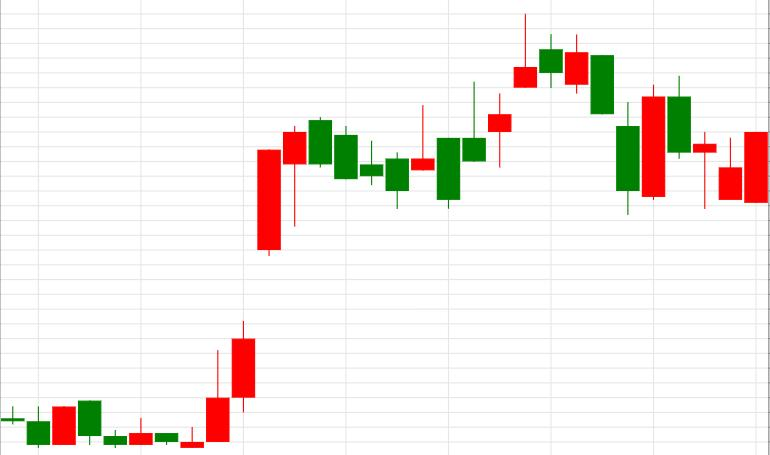hanging_man_fall: (181, 127, 307, 448), (437, 13, 534, 209)
